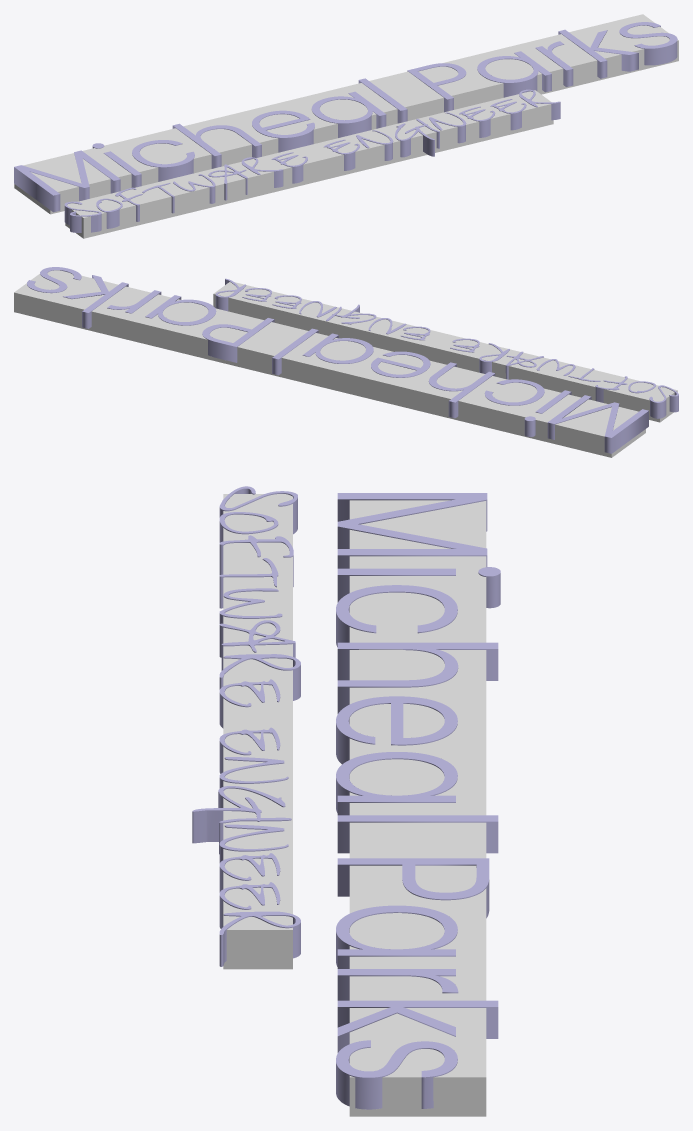
Rendered from name.7ef9a1c7.glb.
3 views of the same model, one above another, from view 1: azimuth 30°, elevation 25°; view 2: azimuth 150°, elevation 25°; view 3: azimuth 270°, elevation 25° (orthographic). The views are drawn at different scales.
Visible parts, largest first — view 1: BoundingBox1, BoundingBox2, Micheal, Title; view 2: BoundingBox1, BoundingBox2, Micheal, Title; view 3: BoundingBox1, Micheal, BoundingBox2, Title.
Boxes of the visible parts, x1,y1,x2,y2 form: BoundingBox1: (14, 14, 678, 214); BoundingBox2: (65, 90, 553, 238); Micheal: (14, 22, 677, 212); Title: (64, 89, 560, 232); BoundingBox1: (14, 270, 645, 457); BoundingBox2: (213, 282, 677, 422); Micheal: (27, 267, 648, 453); Title: (215, 278, 678, 418); BoundingBox1: (349, 500, 486, 1116); Micheal: (336, 493, 500, 1109); BoundingBox2: (223, 494, 292, 969); Title: (192, 486, 300, 966).
Size of the model in its own units: 3.99 by 0.1265 by 0.8799.
